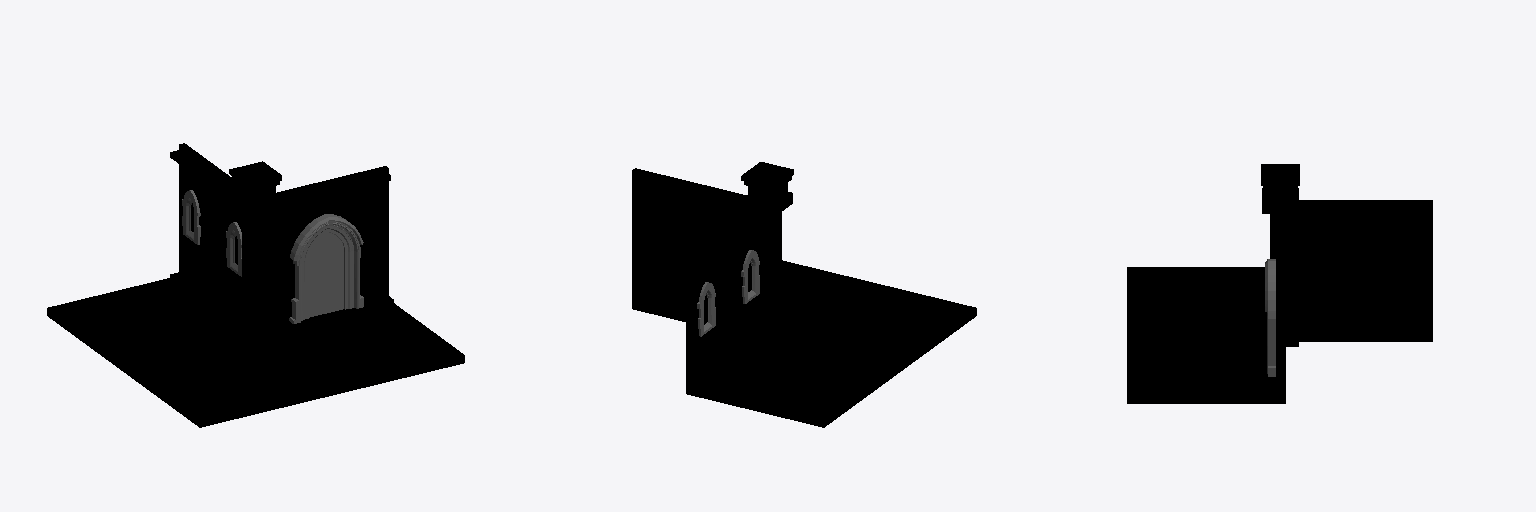
The picture shows the model from 3 angles: view 1: azimuth 30°, elevation 25°; view 2: azimuth 150°, elevation 25°; view 3: azimuth 270°, elevation 25°; orthographic projection.
Visible parts, largest first — view 1: object_28, Plane.017, object_27, object_15, object_17, object_16, object_5, object_8, object_1, object_10, object_3, object_18 (+14 smaller); view 2: object_28, object_27, object_17, object_5, object_16, object_6, object_10, object_8, object_9, object_18, object_7, Plane.007 (+7 smaller); view 3: object_27, object_1, object_15, object_16, object_3, object_10, object_8, object_7, object_2, object_28, Plane.017, object_9 (+2 smaller).
Part boxes in pixels (x1,y1,x2,y2): object_28: (270,166,388,322); Plane.017: (289,214,363,323); object_27: (179,143,241,312); object_15: (297,313,461,393); object_17: (50,294,225,369); object_16: (128,356,332,427); object_5: (47,278,188,328); object_8: (181,382,299,427); object_1: (361,303,464,368); object_10: (224,336,332,402); object_3: (265,328,364,394); object_18: (242,212,269,300); object_28: (632,168,746,321); object_27: (686,206,762,394); object_17: (691,350,900,427); object_5: (697,376,842,427); object_16: (822,300,972,370); object_6: (758,336,900,379); object_10: (784,276,876,339); object_8: (858,284,976,327); object_9: (801,326,919,369); object_18: (763,212,781,300); object_7: (888,314,958,355); Plane.007: (697,250,759,336); object_27: (1290,200,1432,341); object_1: (1127,381,1273,403); object_15: (1127,350,1279,403); object_16: (1164,285,1241,315); object_3: (1127,332,1266,349); object_10: (1127,316,1264,331); object_8: (1127,267,1163,315); object_7: (1164,267,1241,284); object_2: (1127,348,1163,380); object_28: (1280,208,1285,403); Plane.017: (1265,259,1275,376); object_9: (1242,267,1264,315).
Bounding box in the file's own units: 20 × 12.01 × 20.